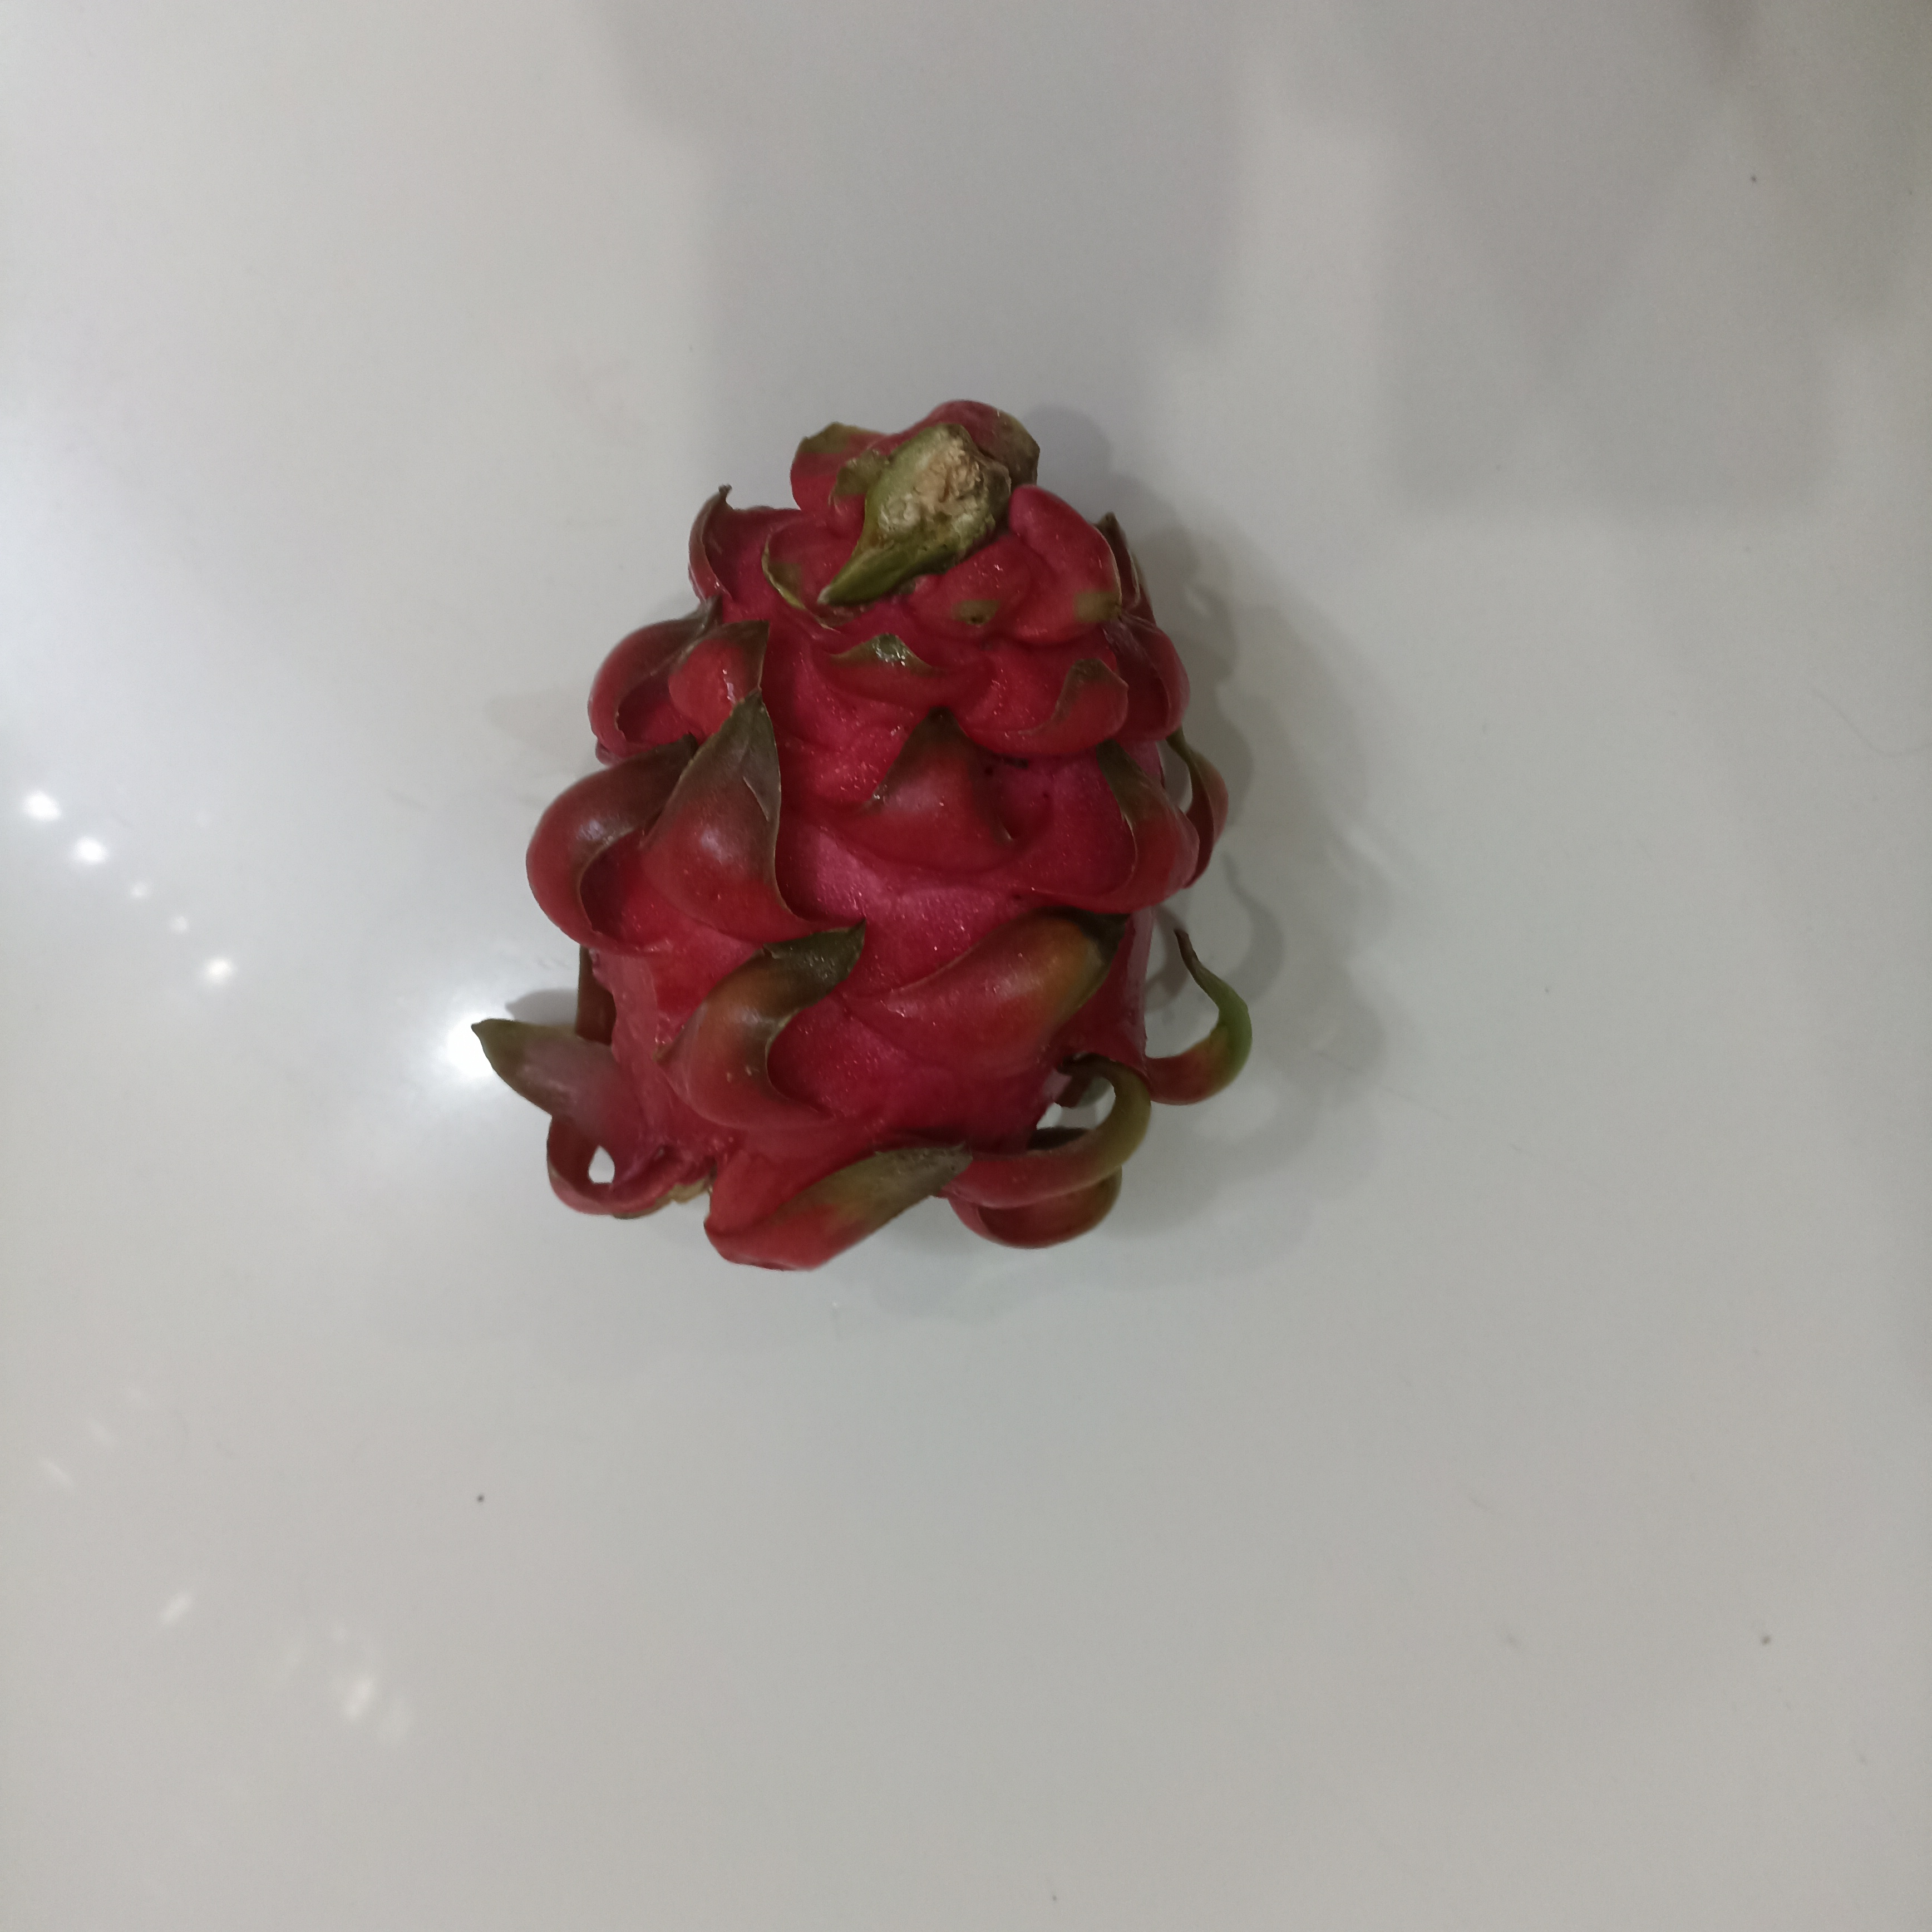Thanh long: (552, 414, 1189, 1247)
